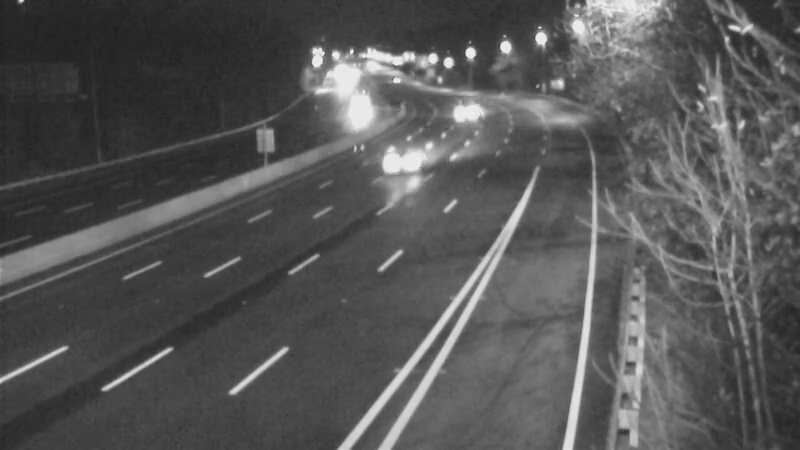vehicle: (369, 123, 449, 203), (371, 55, 421, 105), (443, 85, 493, 135), (329, 88, 379, 138)
